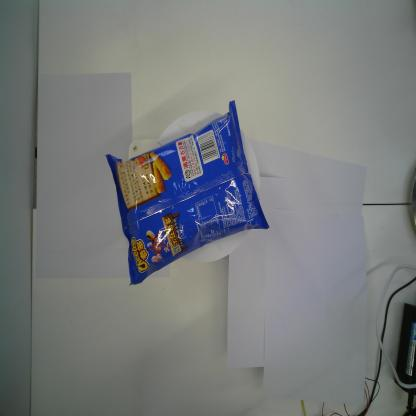Puffed Food: (104, 99, 270, 287)
